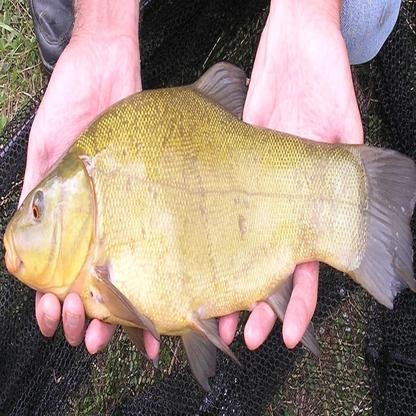fish: (3, 63, 415, 328)
